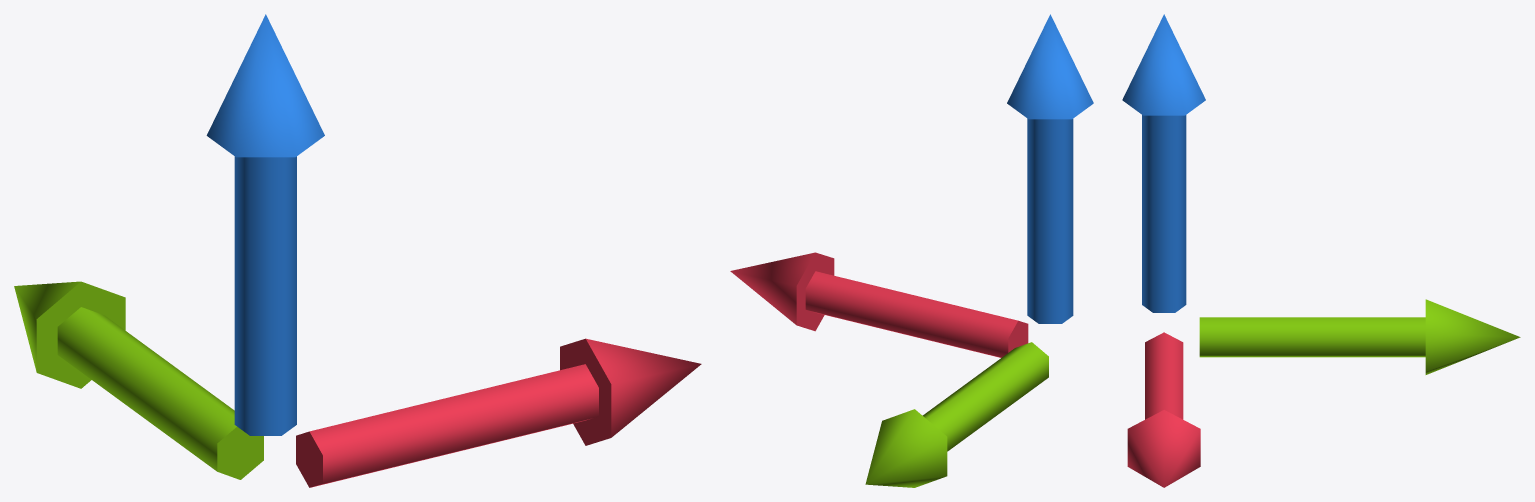
Rendered from gizmo.glb.
3 renders of one model, left to right at view 1: azimuth 30°, elevation 25°; view 2: azimuth 150°, elevation 25°; view 3: azimuth 270°, elevation 25°, orthographic. The views are drawn at different scales.
Parts seen in each view (by area): view 1: GizmoOrigins; view 2: GizmoOrigins; view 3: GizmoOrigins.
Part boxes in pixels (x1,y1,x2,y2): GizmoOrigins: (14, 14, 701, 487); GizmoOrigins: (730, 14, 1093, 487); GizmoOrigins: (1122, 14, 1520, 487).
Size of the model in its own units: 3.31 by 3.35 by 3.35.
